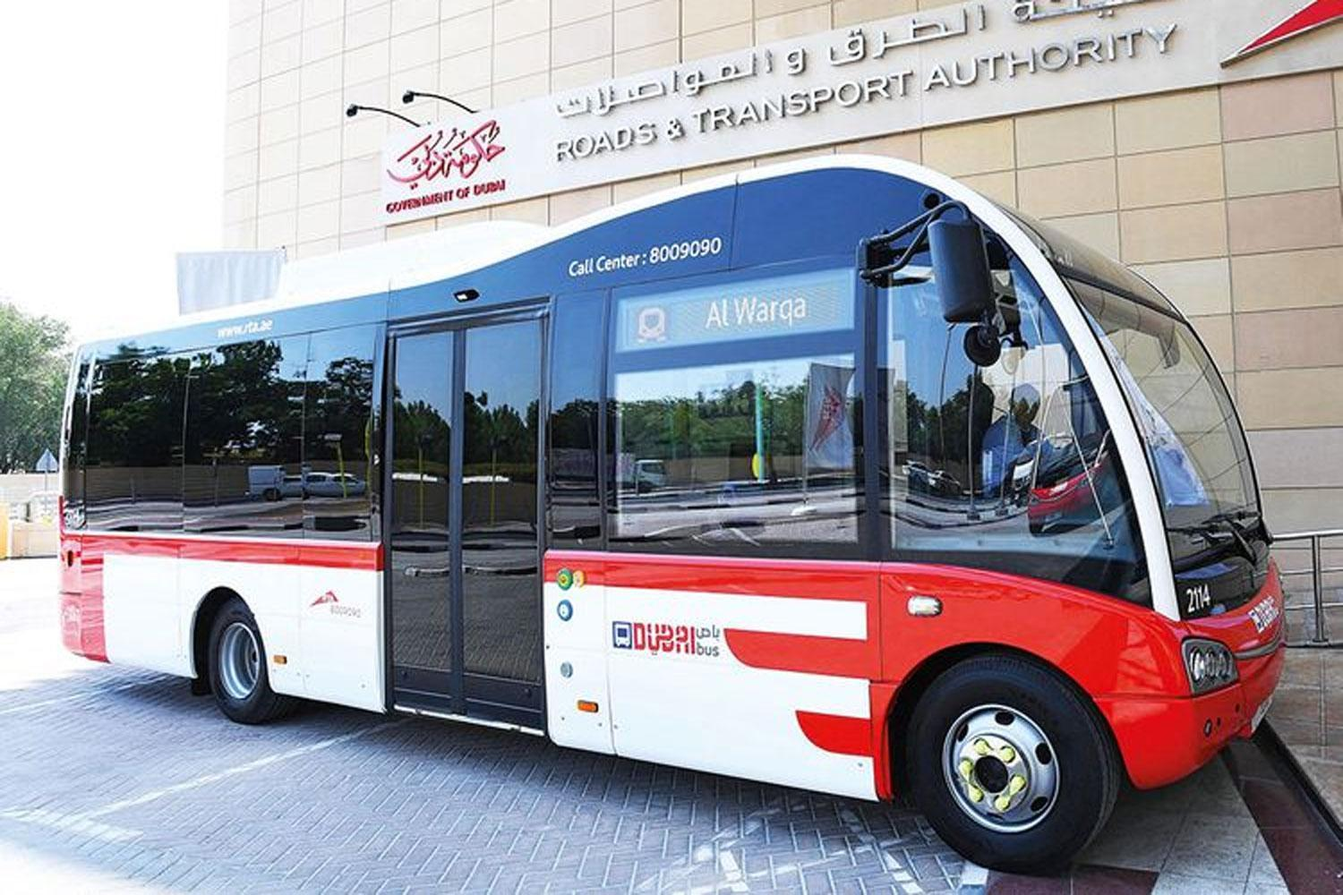Bus: (58, 154, 1288, 880)
